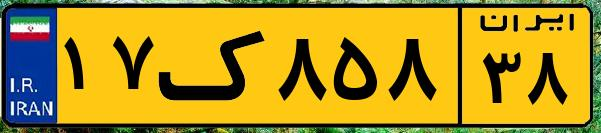1: (57, 26, 110, 100)
3: (475, 38, 525, 113)
5: (330, 28, 385, 110)
7: (110, 28, 158, 98)
8: (270, 28, 330, 110), (385, 28, 445, 110), (525, 38, 570, 115)
ک: (158, 12, 270, 120)
